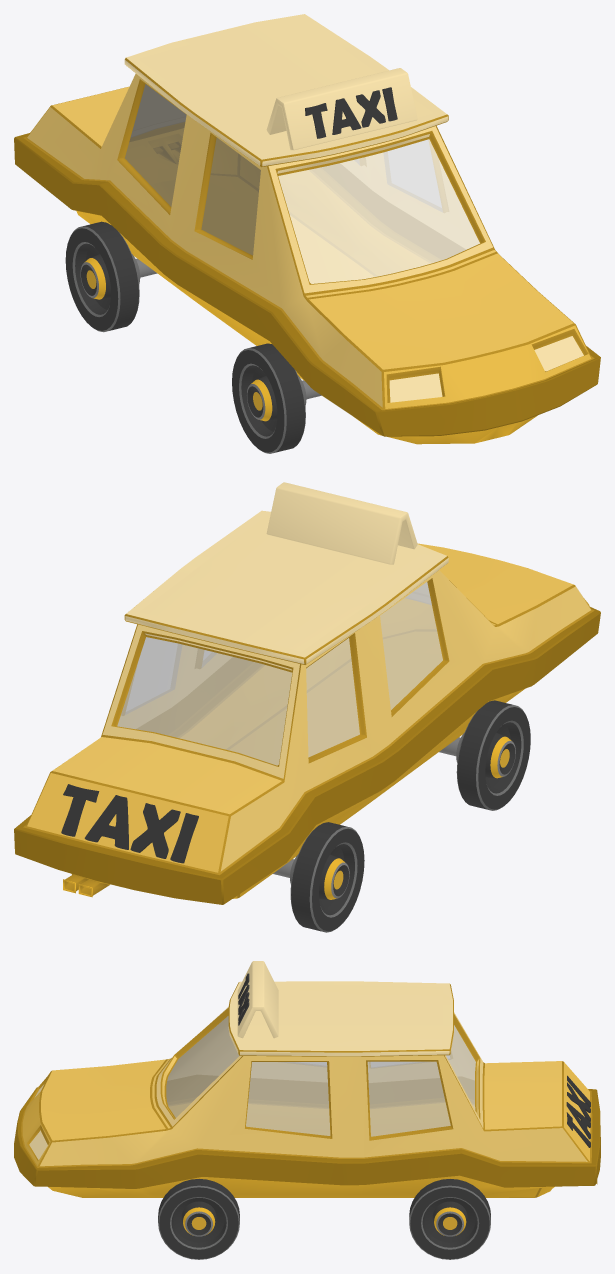
File: lowpolycar-taxi.glb
3 views of the same model, one above another, from view 1: azimuth 30°, elevation 25°; view 2: azimuth 150°, elevation 25°; view 3: azimuth 270°, elevation 25° (orthographic). The views are drawn at different scales.
Parts seen in each view (by area): view 1: Auto, Räder; view 2: Auto, Räder; view 3: Auto, Räder.
Part boxes in pixels (left/top/right/bottom): Auto: left=14, top=14, right=600, bottom=444; Räder: left=65, top=221, right=321, bottom=453; Auto: left=14, top=482, right=600, bottom=904; Räder: left=273, top=700, right=530, bottom=932; Auto: left=14, top=961, right=600, bottom=1197; Räder: left=158, top=1179, right=490, bottom=1259.
Bounding box in the file's own units: 4.93 × 5.73 × 13.17.
3 materials, 2 textured.
